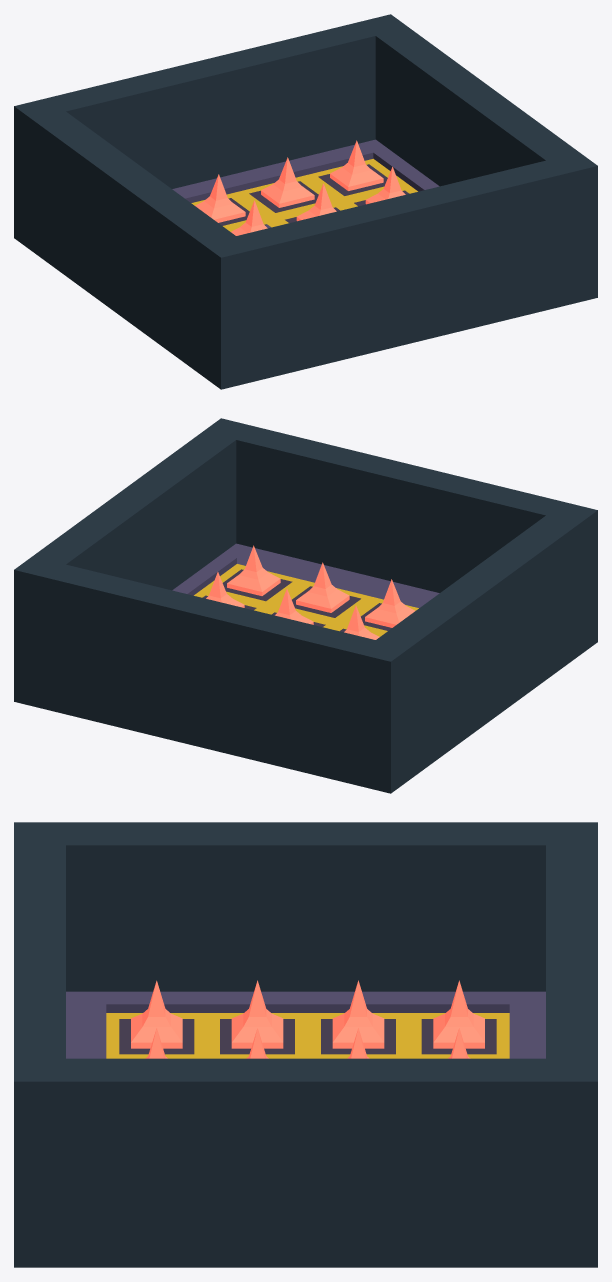
Rendered from SpikePit.fbx.
3 views of the same model, one above another, from view 1: azimuth 30°, elevation 25°; view 2: azimuth 150°, elevation 25°; view 3: azimuth 270°, elevation 25° (orthographic). The views are drawn at different scales.
Visible parts, largest first — view 1: Cube.057, Cube.056; view 2: Cube.057, Cube.056; view 3: Cube.057, Cube.056.
Boxes of the visible parts, x1,y1,x2,y2 form: Cube.057: (14,14,597,389); Cube.056: (172,139,439,235); Cube.057: (14,418,597,793); Cube.056: (172,543,439,639); Cube.057: (14,822,597,1267); Cube.056: (66,980,545,1058).
Bounding box in the file's own units: 1831 × 613 × 1743.
